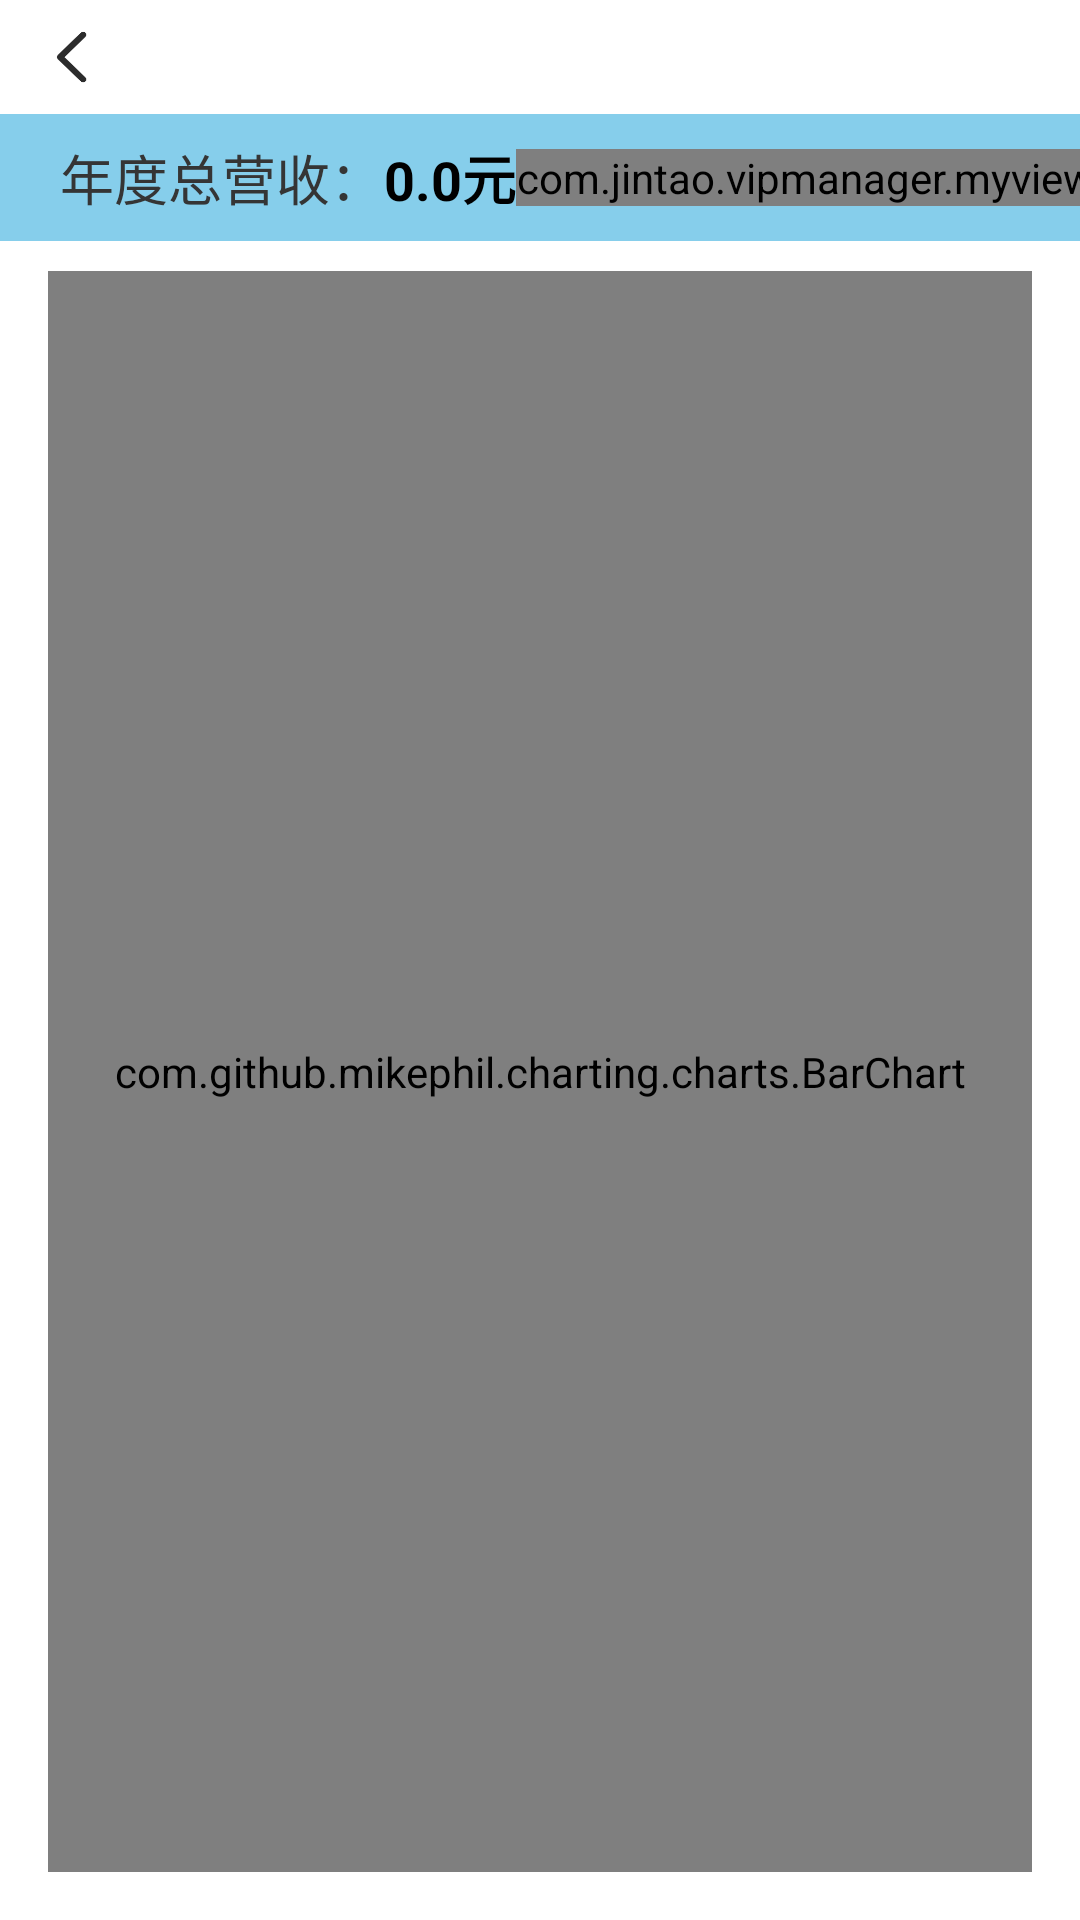

Screen size 1080px x 1920px. Icon name, then its box in pixels as (x1, y1, x2, y2):
title back: (57, 32, 87, 83)
